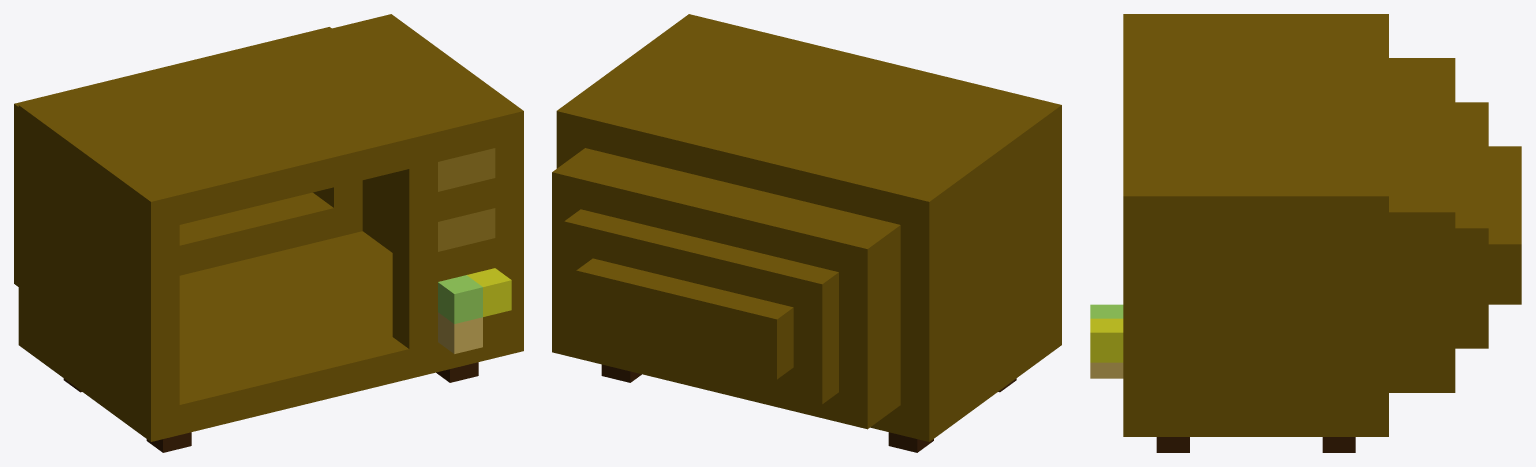
3 renders of one model, left to right at view 1: azimuth 30°, elevation 25°; view 2: azimuth 150°, elevation 25°; view 3: azimuth 270°, elevation 25°, orthographic.
Visible parts, largest first — view 1: base; view 2: base; view 3: base.
Boxes of the visible parts, x1=… form: base: x1=14, y1=14, x2=523, y2=452; base: x1=552, y1=14, x2=1061, y2=452; base: x1=1090, y1=14, x2=1521, y2=452.
Size of the model in its own units: 13 by 9 by 13.
